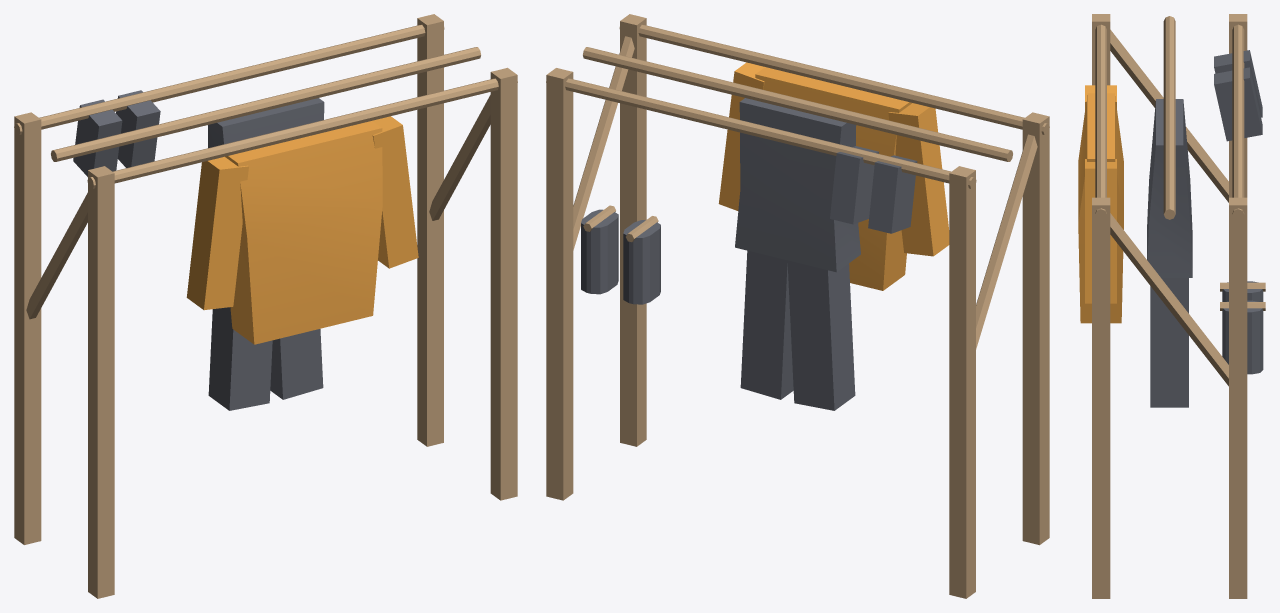
Rendered from backcountry-snowboarding-and-avalanche-safety-drying-r-ca9d9c8a__18956.glb.
The picture shows the model from 3 angles, left to right: view 1: azimuth 30°, elevation 25°; view 2: azimuth 150°, elevation 25°; view 3: azimuth 270°, elevation 25°; orthographic projection. The views are drawn at different scales.
Visible parts, largest first — view 1: drying-rack; view 2: drying-rack; view 3: drying-rack.
Boxes of the visible parts, x1,y1,x2,y2 form: drying-rack: [14, 14, 517, 598]; drying-rack: [546, 14, 1049, 598]; drying-rack: [1078, 14, 1265, 598].
Bounding box in the file's own units: 2 × 1.9 × 0.82.
